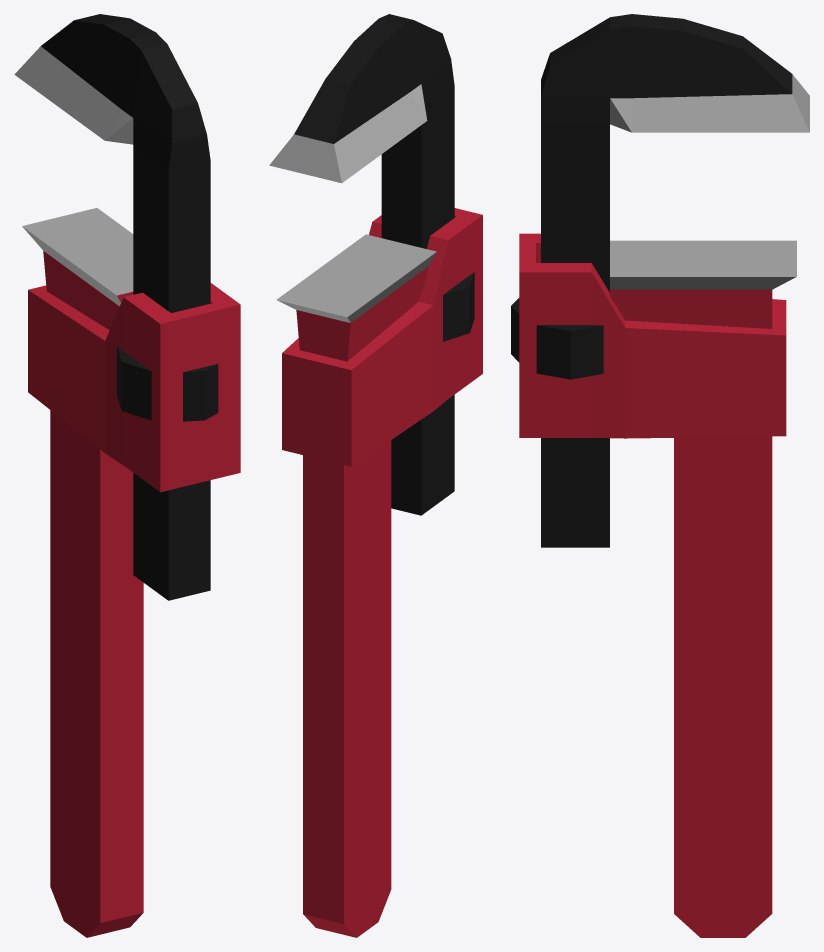
File: m_wrench.fbx
The picture shows the model from 3 angles, left to right: view 1: azimuth 30°, elevation 25°; view 2: azimuth 150°, elevation 25°; view 3: azimuth 270°, elevation 25°; orthographic projection. The views are drawn at different scales.
Visible parts, largest first — view 1: WrenchHandle, WrenchHead, WrenchConnector, Cylinder.001; view 2: WrenchHandle, WrenchHead, WrenchConnector, Cylinder.001; view 3: WrenchHandle, WrenchHead, WrenchConnector, Cylinder.001.
Part boxes in pixels (x1=…): WrenchHandle: x1=22, y1=208, x2=143, y2=937; WrenchHead: x1=14, y1=14, x2=210, y2=600; WrenchConnector: x1=28, y1=283, x2=240, y2=492; Cylinder.001: x1=117, y1=347, x2=218, y2=421; WrenchHandle: x1=276, y1=234, x2=436, y2=937; WrenchHead: x1=269, y1=14, x2=454, y2=515; WrenchConnector: x1=282, y1=208, x2=482, y2=466; Cylinder.001: x1=443, y1=272, x2=474, y2=341; WrenchHandle: x1=610, y1=240, x2=796, y2=937; WrenchHead: x1=541, y1=14, x2=809, y2=547; WrenchConnector: x1=519, y1=233, x2=786, y2=438; Cylinder.001: x1=511, y1=298, x2=603, y2=379.
Bounding box in the file's own units: 8.94 × 74.87 × 22.35.
